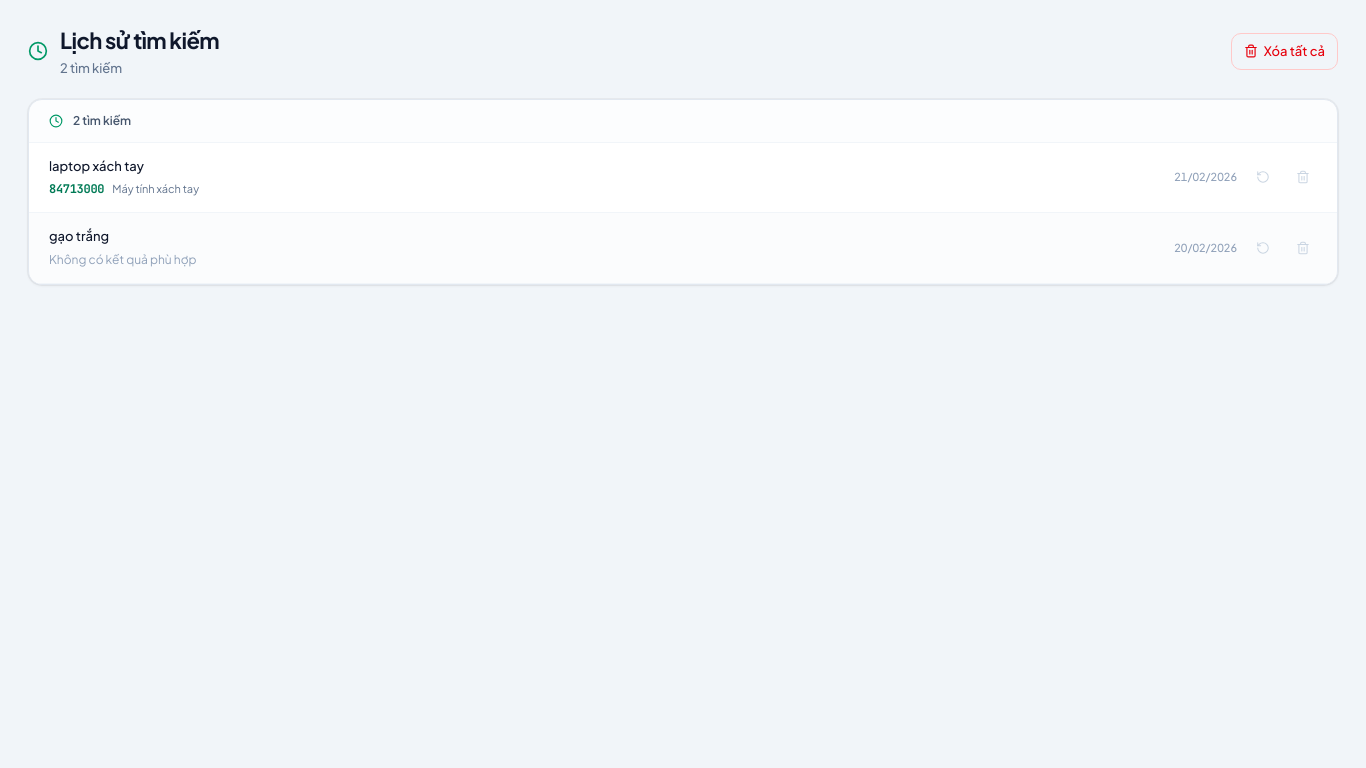
HistoryPage › confirming clear all deletes history and shows empty state
This screenshot has width=1366, height=768.
What coordinates should you click on to do the following:
click the button "Xóa tất cả"
I would click on:
 (1284, 51)
Its box is [1231,32,1338,70].
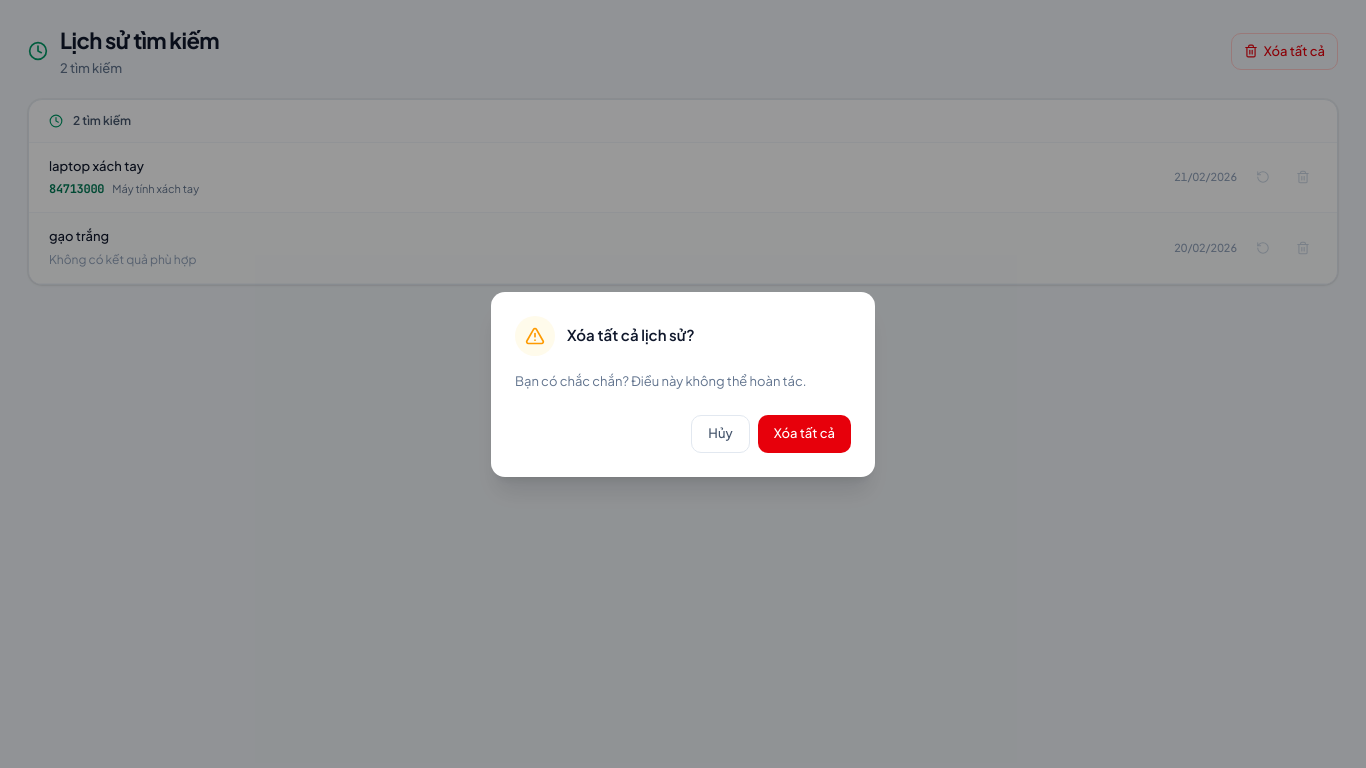
What coordinates should you click on to do the following:
click the button "Xóa tất cả"
I would click on:
 (804, 434)
Its box is [758,415,851,452].
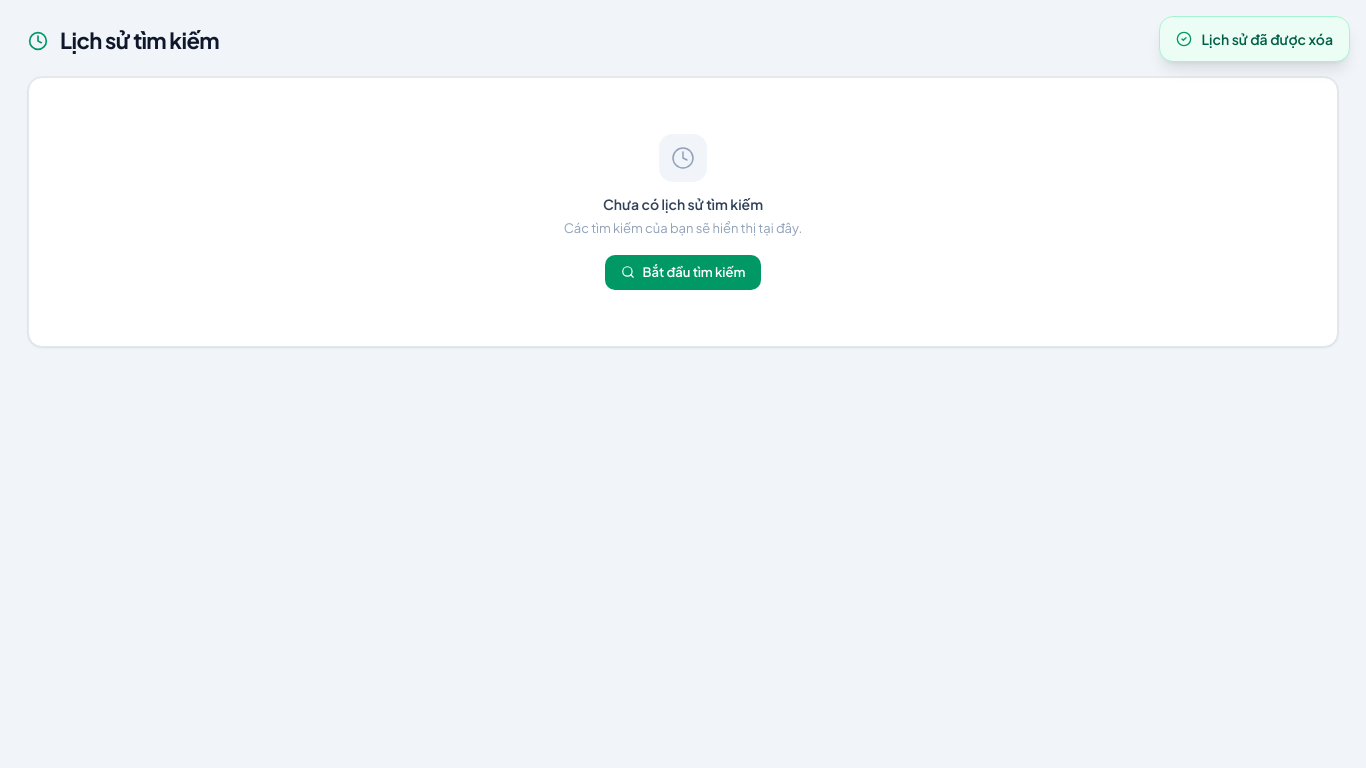
Check: the text "Chưa có lịch sử tìm kiếm" is shown, box [603,195,763,213]
